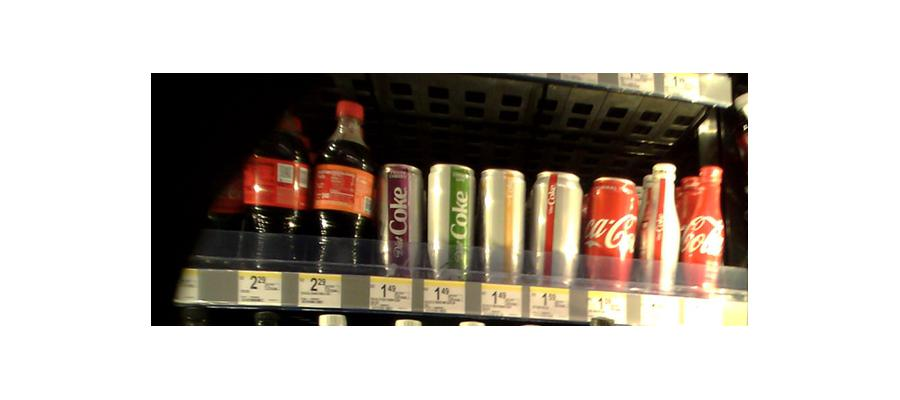bottle: (244, 96, 308, 267), (312, 98, 372, 271), (191, 134, 240, 270), (529, 168, 582, 286), (682, 162, 727, 295), (478, 164, 528, 283), (427, 162, 477, 280), (586, 175, 637, 288), (640, 161, 681, 296), (376, 156, 422, 275)
